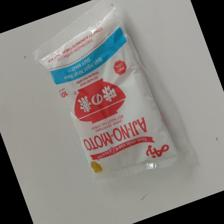Ajinomoto: (33, 9, 182, 190)
